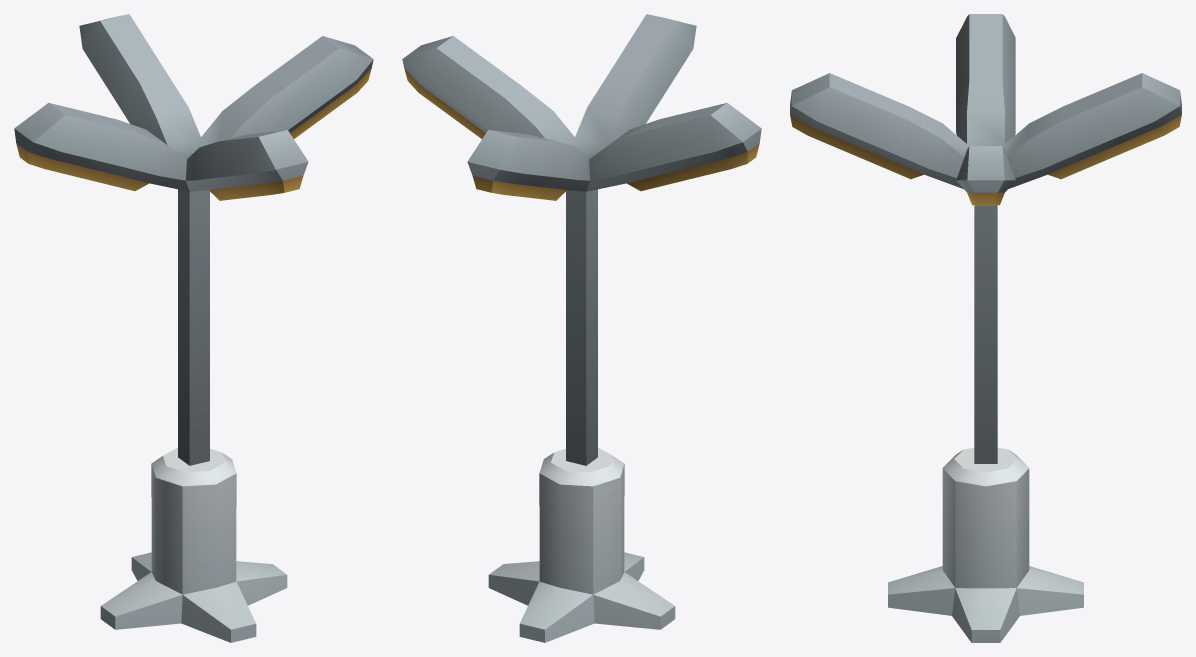
File: lights.glb
3 renders of one model, left to right at view 1: azimuth 30°, elevation 25°; view 2: azimuth 150°, elevation 25°; view 3: azimuth 270°, elevation 25°, orthographic.
Parts seen in each view (by area): view 1: lights_Cube.15107; view 2: lights_Cube.15107; view 3: lights_Cube.15107.
Boxes of the visible parts, x1,y1,x2,y2 form: lights_Cube.15107: [14, 14, 373, 642]; lights_Cube.15107: [402, 14, 761, 642]; lights_Cube.15107: [790, 14, 1181, 642].
Size of the model in its own units: 0.68 by 0.9984 by 0.68.
1 material, 1 textured.
